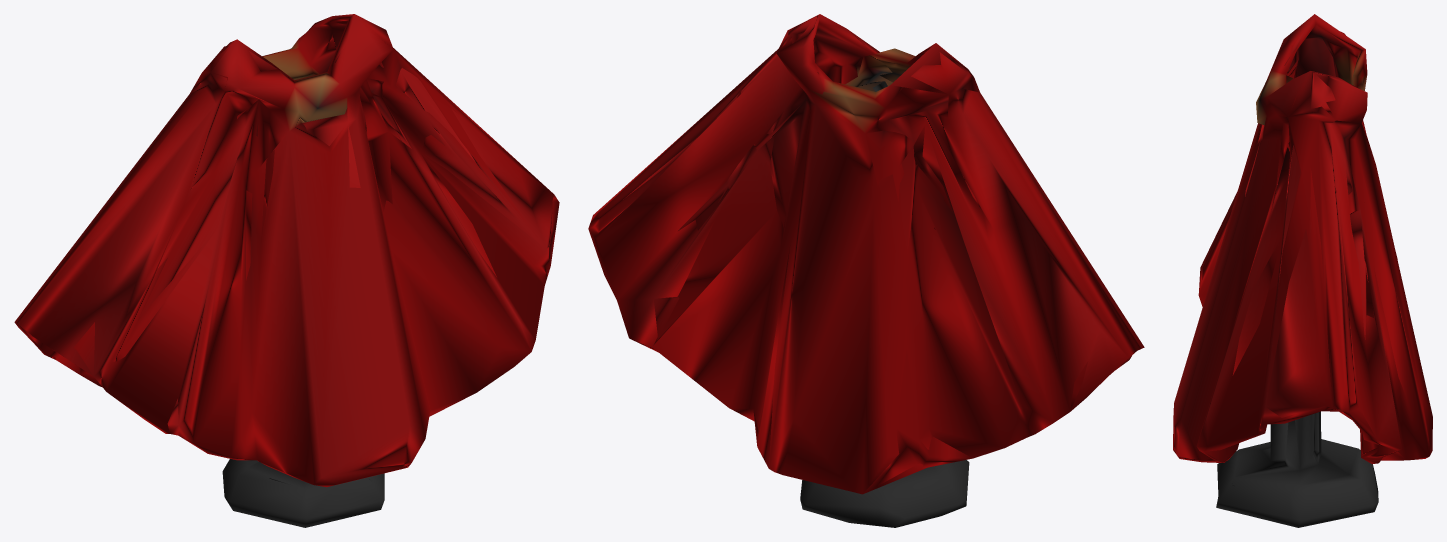
Rendered from gen3d-cape-lod1.glb.
3 views of the same model, side by side, from view 1: azimuth 30°, elevation 25°; view 2: azimuth 150°, elevation 25°; view 3: azimuth 270°, elevation 25° (orthographic). The views are drawn at different scales.
Parts seen in each view (by area): view 1: part_0; view 2: part_0; view 3: part_0.
Boxes of the visible parts, <box> form: part_0: <box>14,14,559,527</box>; part_0: <box>588,14,1144,527</box>; part_0: <box>1173,14,1432,527</box>.
Bounding box in the file's own units: 1.22 × 0.9997 × 0.5215.
